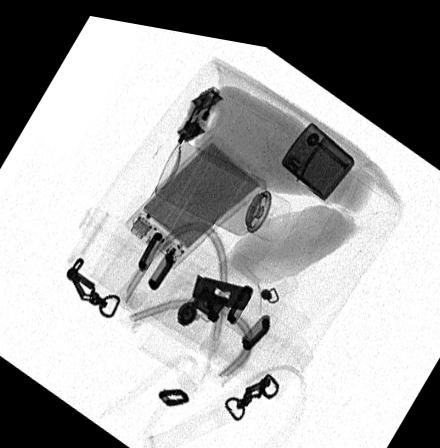Lighter: (281, 110, 355, 189)
Powerbank: (123, 125, 270, 262)
Sprayer: (155, 133, 292, 232)
